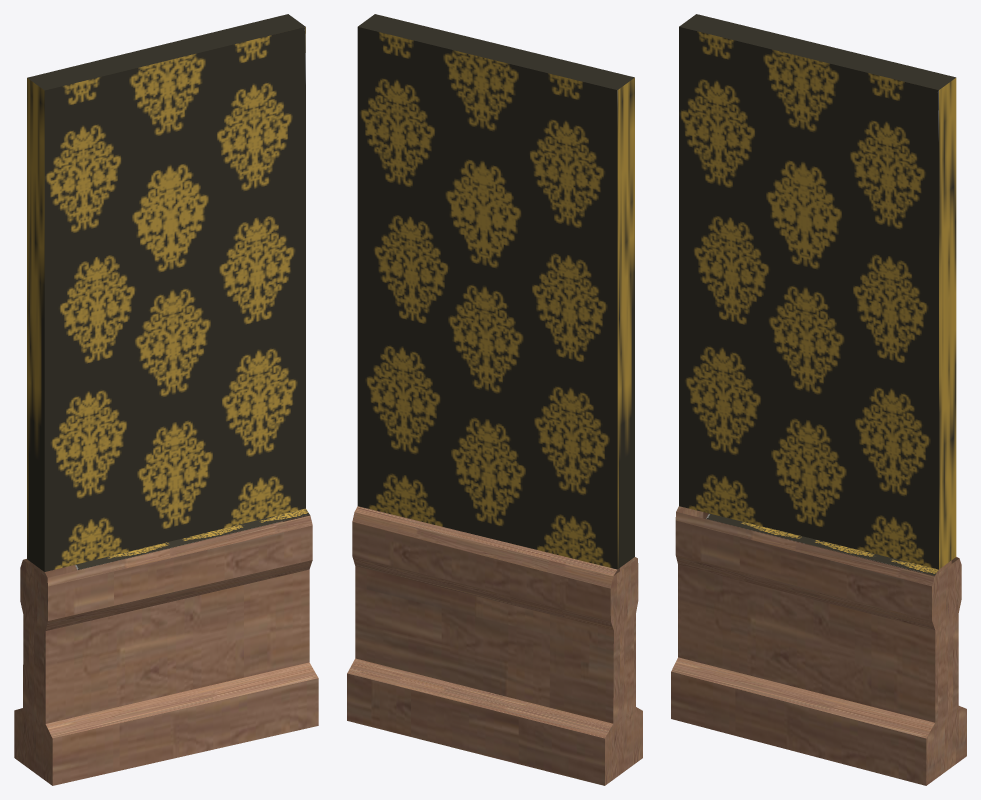
Rendered from Wall_B.fbx.
The picture shows the model from 3 angles, left to right: view 1: azimuth 30°, elevation 25°; view 2: azimuth 150°, elevation 25°; view 3: azimuth 330°, elevation 25°; orthographic projection.
Parts seen in each view (by area): view 1: MWall_Small_B; view 2: MWall_Small_B; view 3: MWall_Small_B.
Part boxes in pixels (box(x1,y1,x2,y2)): MWall_Small_B: box(14, 14, 318, 785); MWall_Small_B: box(347, 14, 642, 785); MWall_Small_B: box(671, 14, 966, 785).
Bounding box in the file's own units: 406 × 116 × 1024.
